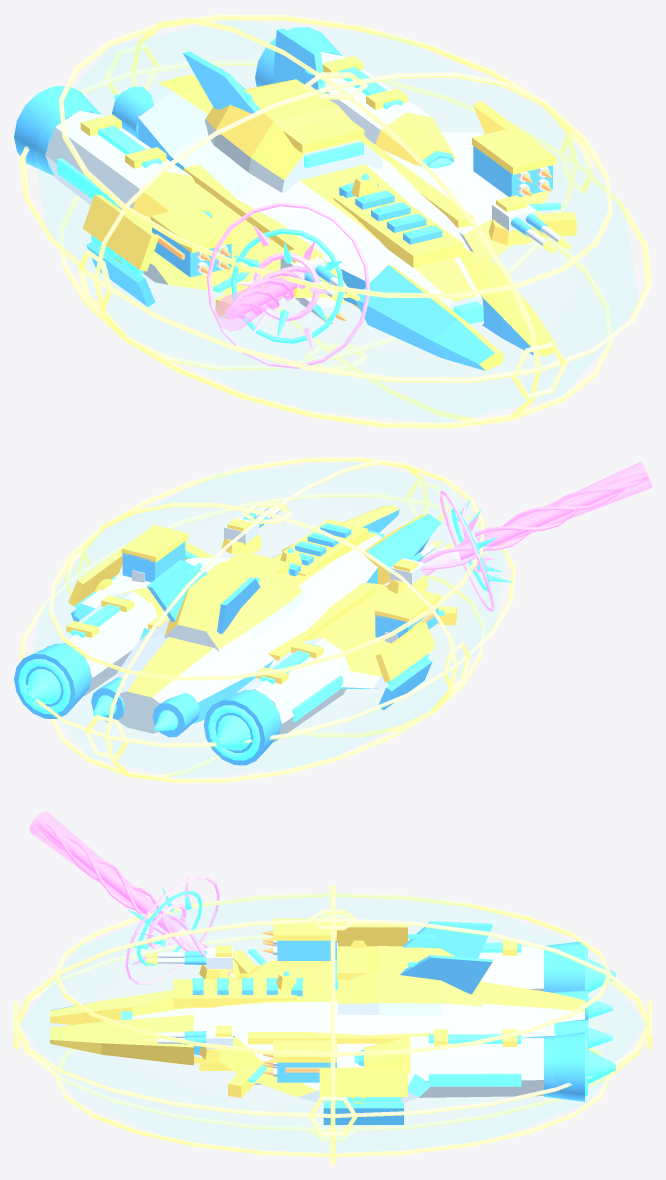
The model's file is horizon_tachyon_cruiser_pierced.glb.
3 views of the same model, one above another, from view 1: azimuth 30°, elevation 25°; view 2: azimuth 150°, elevation 25°; view 3: azimuth 270°, elevation 25° (orthographic). The views are drawn at different scales.
Visible parts, largest first — view 1: Cruiser_Reinforced_Particle_Shield, Cruiser_Reinforced_Hull_Core, Cruiser_Particle_Shield_HexReinforcement, Cruiser_Cyan_Engine_Nacelles, Cruiser_Command_Bridge_And_Spine, Cruiser_Forward_Swept_Wings_And_Armor, Tachyon_Lance_Piercing_FX, Cruiser_Missile_Mounts, Cruiser_Laser_Mounts; view 2: Cruiser_Reinforced_Particle_Shield, Cruiser_Cyan_Engine_Nacelles, Cruiser_Particle_Shield_HexReinforcement, Cruiser_Reinforced_Hull_Core, Cruiser_Command_Bridge_And_Spine, Cruiser_Forward_Swept_Wings_And_Armor, Tachyon_Lance_Piercing_FX, Cruiser_Missile_Mounts, Cruiser_Laser_Mounts; view 3: Cruiser_Reinforced_Particle_Shield, Cruiser_Reinforced_Hull_Core, Cruiser_Particle_Shield_HexReinforcement, Cruiser_Cyan_Engine_Nacelles, Cruiser_Command_Bridge_And_Spine, Cruiser_Forward_Swept_Wings_And_Armor, Tachyon_Lance_Piercing_FX, Cruiser_Missile_Mounts, Cruiser_Laser_Mounts.
Boxes of the visible parts, x1=… form: Cruiser_Reinforced_Particle_Shield: x1=35, y1=21, x2=637, y2=422; Cruiser_Reinforced_Hull_Core: x1=136, y1=74, x2=556, y2=370; Cruiser_Particle_Shield_HexReinforcement: x1=19, y1=14, x2=651, y2=428; Cruiser_Cyan_Engine_Nacelles: x1=14, y1=27, x2=455, y2=217; Cruiser_Command_Bridge_And_Spine: x1=183, y1=28, x2=442, y2=244; Cruiser_Forward_Swept_Wings_And_Armor: x1=82, y1=100, x2=576, y2=319; Tachyon_Lance_Piercing_FX: x1=206, y1=202, x2=370, y2=368; Cruiser_Missile_Mounts: x1=150, y1=127, x2=556, y2=324; Cruiser_Laser_Mounts: x1=280, y1=195, x2=571, y2=304; Cruiser_Reinforced_Particle_Shield: x1=34, y1=462, x2=504, y2=778; Cruiser_Cyan_Engine_Nacelles: x1=14, y1=587, x2=360, y2=765; Cruiser_Particle_Shield_HexReinforcement: x1=19, y1=457, x2=516, y2=782; Cruiser_Reinforced_Hull_Core: x1=112, y1=505, x2=441, y2=733; Cruiser_Command_Bridge_And_Spine: x1=147, y1=523, x2=351, y2=651; Cruiser_Forward_Swept_Wings_And_Armor: x1=68, y1=541, x2=456, y2=710; Tachyon_Lance_Piercing_FX: x1=384, y1=461, x2=651, y2=612; Cruiser_Missile_Mounts: x1=121, y1=525, x2=441, y2=643; Cruiser_Laser_Mounts: x1=221, y1=499, x2=452, y2=593; Cruiser_Reinforced_Particle_Shield: x1=20, y1=894, x2=645, y2=1152; Cruiser_Reinforced_Hull_Core: x1=50, y1=974, x2=584, y2=1070; Cruiser_Particle_Shield_HexReinforcement: x1=14, y1=884, x2=651, y2=1165; Cruiser_Cyan_Engine_Nacelles: x1=354, y1=938, x2=615, y2=1101; Cruiser_Command_Bridge_And_Spine: x1=192, y1=921, x2=492, y2=1015; Cruiser_Forward_Swept_Wings_And_Armor: x1=222, y1=922, x2=431, y2=1124; Tachyon_Lance_Piercing_FX: x1=29, y1=811, x2=235, y2=984; Cruiser_Missile_Mounts: x1=254, y1=918, x2=337, y2=1084; Cruiser_Laser_Mounts: x1=145, y1=945, x2=240, y2=1063.
Bounding box in the file's own units: 4.77 × 2.31 × 6.2.
